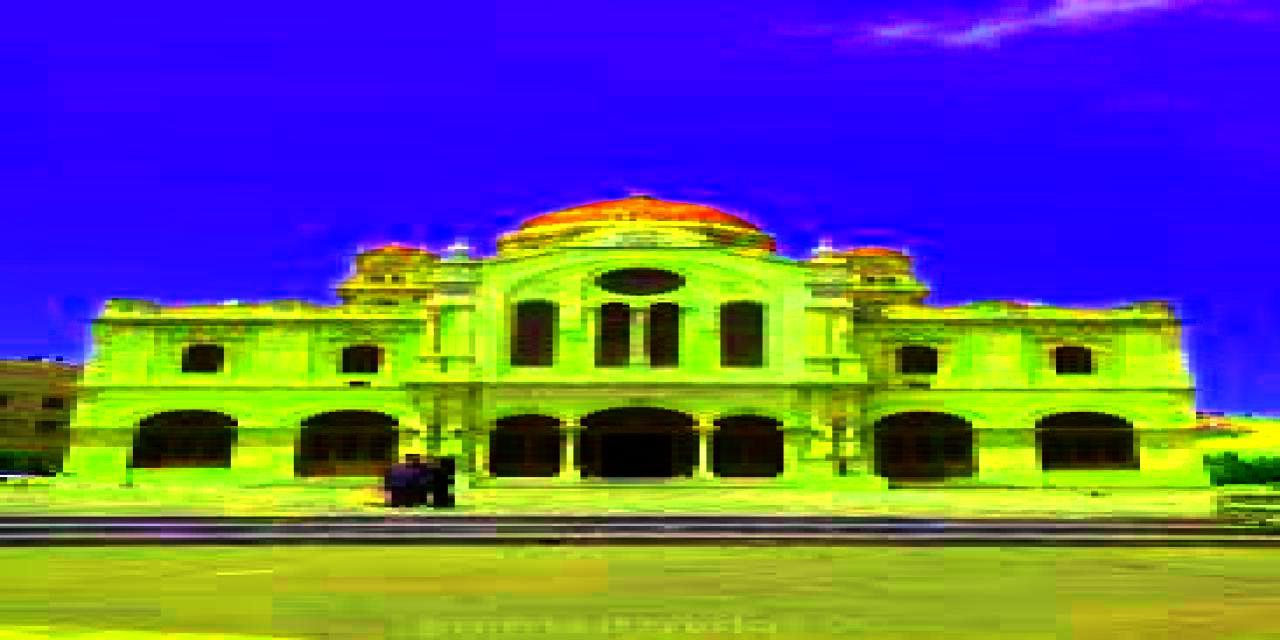Agios Minas: (71, 174, 1198, 487)
